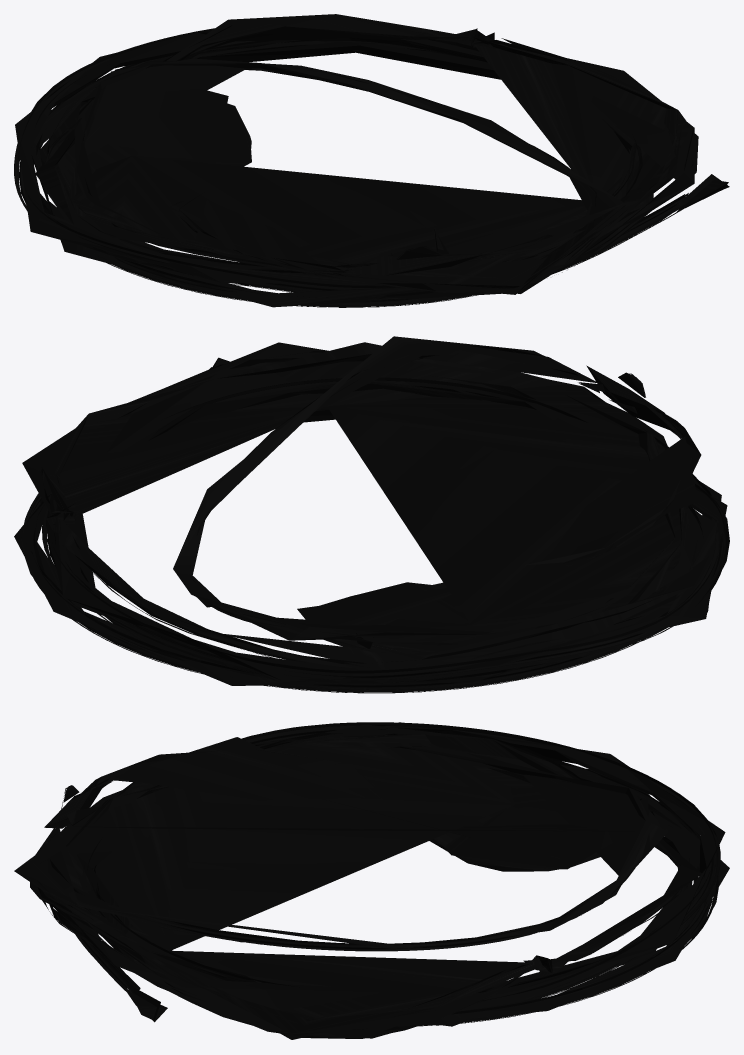
The model's file is cannulae_nasal_a01.glb.
The picture shows the model from 3 angles, top to bottom: view 1: azimuth 30°, elevation 25°; view 2: azimuth 150°, elevation 25°; view 3: azimuth 270°, elevation 25°; orthographic projection. The views are drawn at different scales.
Parts seen in each view (by area): view 1: geometry_0; view 2: geometry_0; view 3: geometry_0.
Part boxes in pixels (left/top/right/bottom): geometry_0: left=14, top=14, right=729, bottom=307; geometry_0: left=14, top=336, right=729, bottom=693; geometry_0: left=14, top=722, right=729, bottom=1039.
Bounding box in the file's own units: 0.42 × 0.0418 × 0.412.
1 material, 1 textured.
